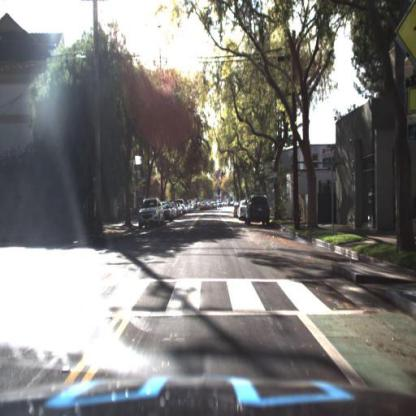car: (135, 195, 165, 231), (247, 191, 272, 228), (245, 194, 273, 226), (239, 197, 251, 221)
